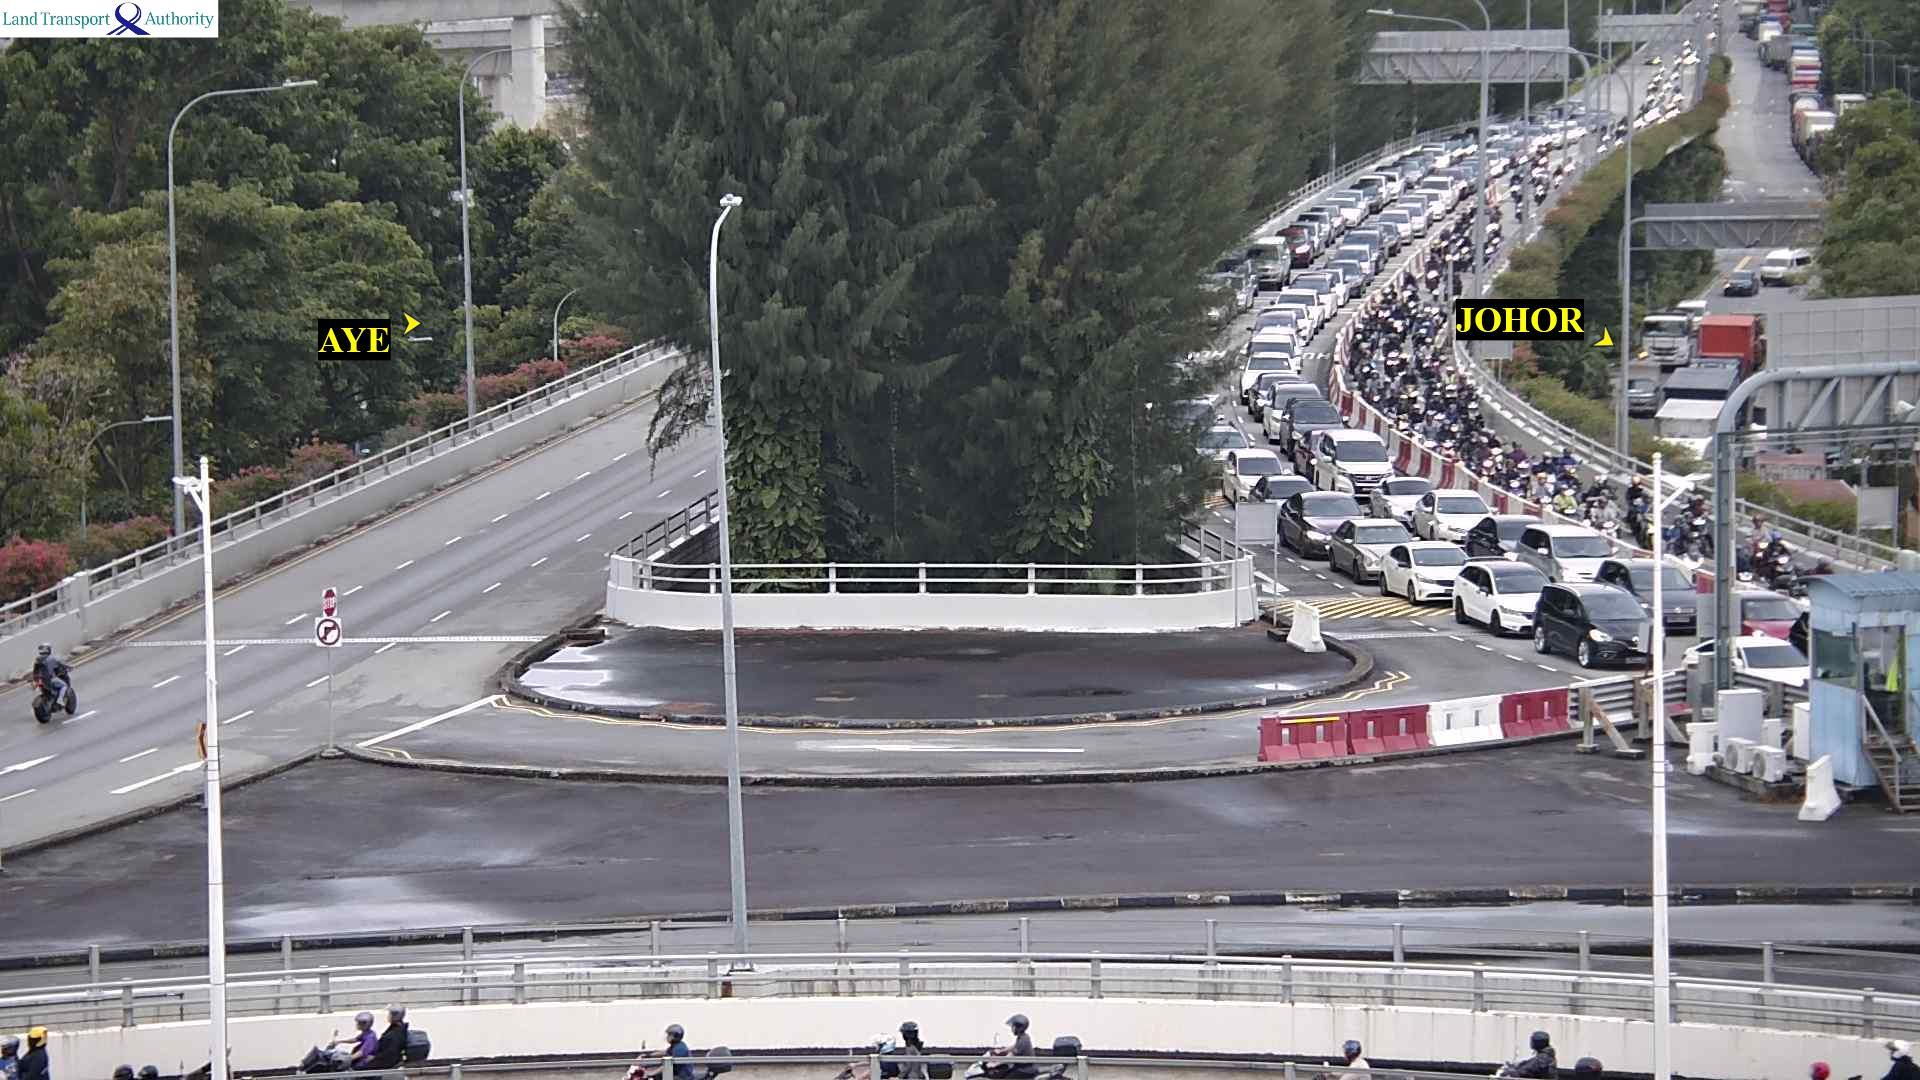vehicle-secondlink-johor: (1531, 589, 1711, 660), (1679, 640, 1815, 687), (1454, 565, 1575, 616), (1411, 490, 1526, 537), (1488, 531, 1646, 565), (1333, 523, 1431, 577), (1277, 496, 1391, 542), (1564, 566, 1719, 597), (1381, 543, 1471, 595), (1313, 435, 1404, 483), (1465, 516, 1551, 555), (1361, 477, 1440, 517), (1228, 452, 1296, 497), (1284, 404, 1355, 442), (1189, 430, 1259, 461), (1258, 387, 1323, 418), (1251, 477, 1322, 505), (1261, 296, 1323, 328), (1279, 278, 1343, 308), (1252, 378, 1315, 408), (1323, 249, 1386, 279), (1353, 224, 1414, 252), (1249, 313, 1312, 340), (1369, 216, 1426, 244), (1245, 340, 1304, 367), (1251, 239, 1287, 283), (1388, 195, 1441, 223), (1581, 480, 1616, 514), (1274, 230, 1309, 261), (1621, 481, 1649, 516), (1687, 495, 1710, 537), (1422, 178, 1453, 207), (1452, 163, 1492, 183), (1301, 214, 1328, 243), (1309, 207, 1339, 233), (1553, 478, 1577, 510), (1292, 225, 1319, 252), (1324, 198, 1356, 220), (1668, 519, 1687, 555), (1339, 191, 1364, 218), (1357, 178, 1386, 201), (1511, 128, 1544, 148), (1534, 123, 1563, 145), (1471, 150, 1504, 169), (1476, 434, 1493, 468), (1393, 162, 1420, 183), (1442, 368, 1457, 404), (1371, 175, 1399, 194), (1353, 186, 1377, 208), (1425, 257, 1441, 290), (1509, 435, 1527, 464), (1401, 276, 1416, 309), (1419, 144, 1445, 163), (1381, 328, 1398, 357), (1485, 222, 1501, 251), (1462, 386, 1479, 413), (1531, 474, 1550, 498), (1422, 411, 1435, 446), (1378, 289, 1391, 323), (1436, 138, 1460, 156), (1538, 450, 1555, 474), (1397, 396, 1409, 430), (1440, 422, 1453, 453), (1419, 340, 1432, 371), (1493, 139, 1518, 155), (1453, 133, 1475, 151), (1464, 430, 1476, 461), (1385, 378, 1395, 415), (1559, 123, 1580, 140), (1489, 123, 1509, 139), (1409, 153, 1430, 168), (1489, 200, 1503, 221), (1510, 174, 1521, 200), (1415, 318, 1428, 339), (1429, 238, 1441, 260), (1534, 176, 1545, 200), (1396, 356, 1409, 376), (1362, 349, 1369, 384), (1445, 230, 1457, 250), (1411, 403, 1420, 428), (1552, 162, 1562, 184), (1362, 322, 1372, 343), (1372, 371, 1378, 403), (1431, 379, 1438, 406)
vehicle-secondlink-singapore: (25, 654, 82, 724)
